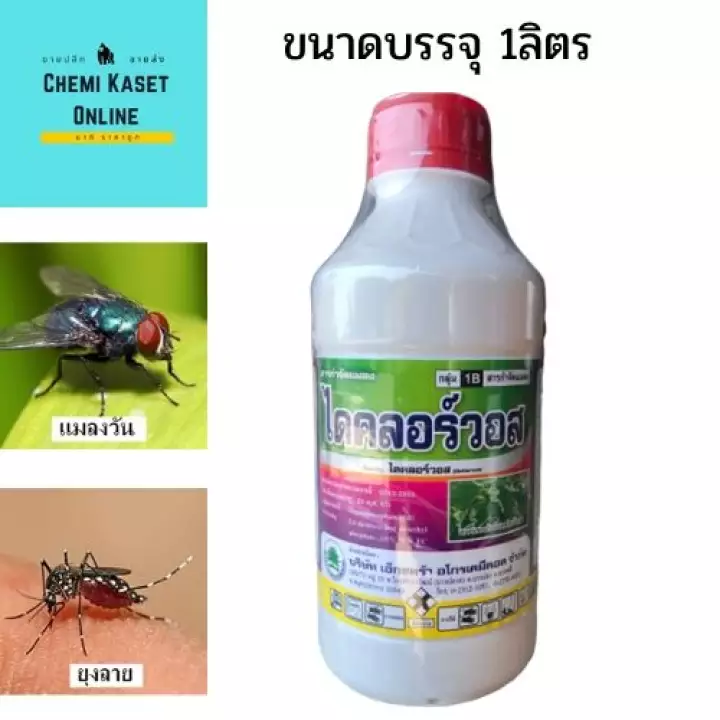Insecticide: (306, 89, 551, 716)
